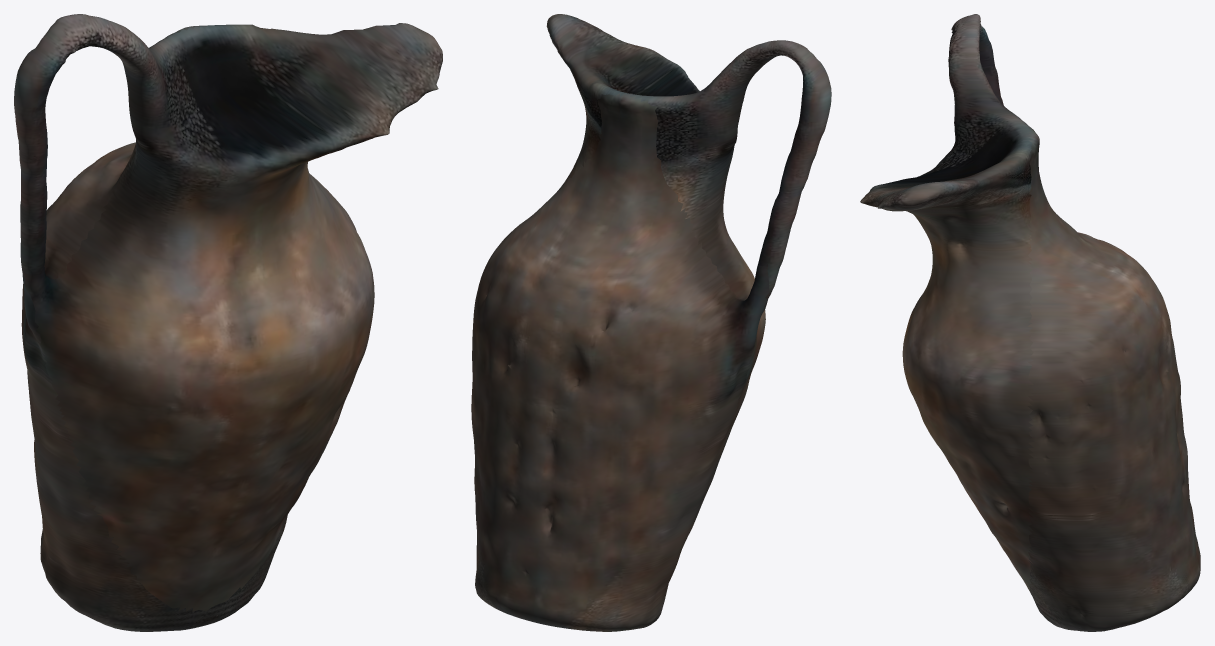
File: kfl-2241.glb
3 renders of one model, left to right at view 1: azimuth 30°, elevation 25°; view 2: azimuth 150°, elevation 25°; view 3: azimuth 270°, elevation 25°, orthographic. The views are drawn at different scales.
Visible parts, largest first — view 1: geometry_0; view 2: geometry_0; view 3: geometry_0.
Boxes of the visible parts, x1,y1,x2,y2 form: geometry_0: [14, 14, 442, 631]; geometry_0: [471, 14, 831, 631]; geometry_0: [860, 14, 1200, 631].
Size of the model in its own units: 0.571 by 0.9915 by 0.5773.
1 material, 1 textured.
